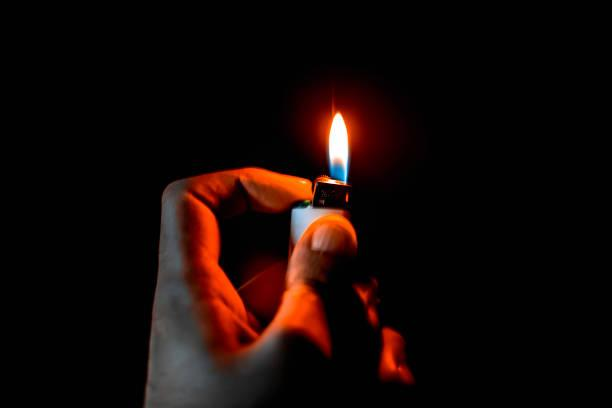Fire: (320, 104, 357, 184)
